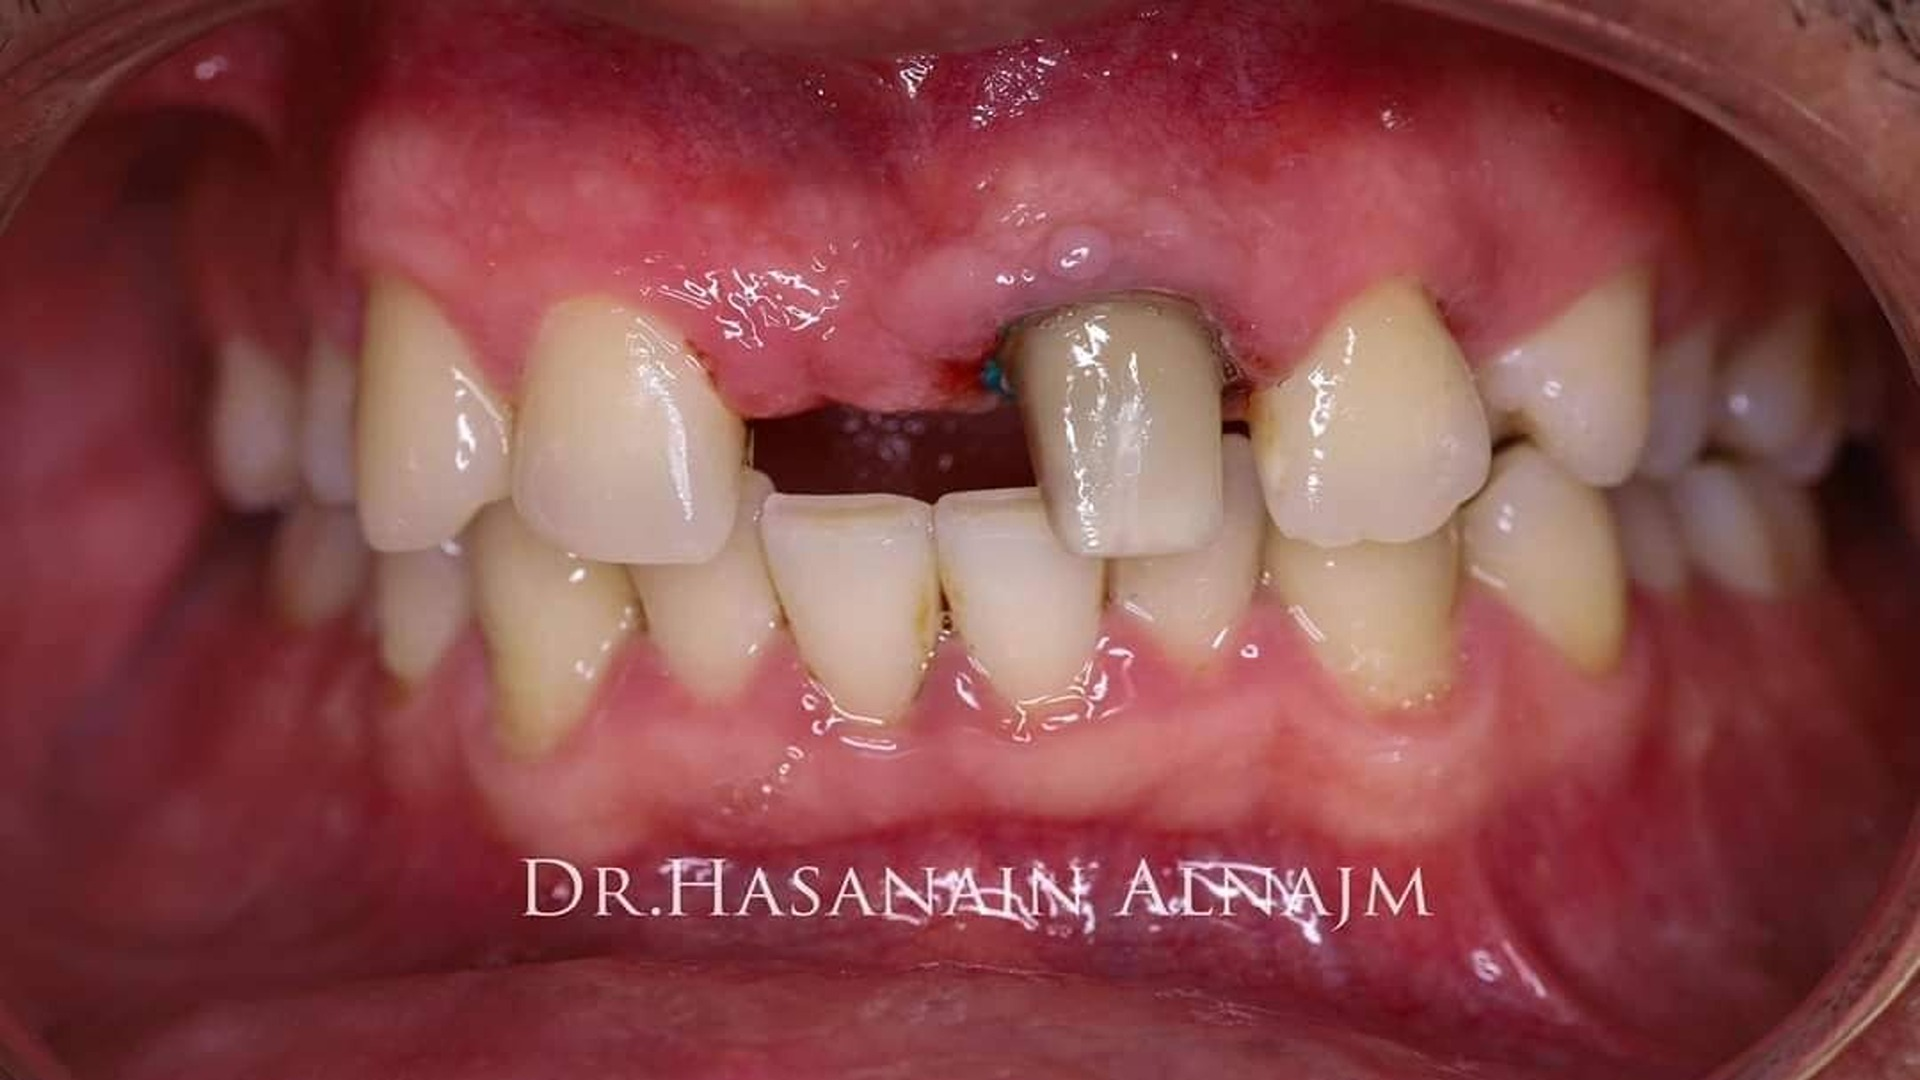tooth: (1247, 277, 1491, 549), (510, 294, 746, 564), (998, 293, 1225, 559), (463, 498, 646, 760), (356, 273, 512, 551), (760, 492, 940, 727), (1265, 512, 1464, 711), (1458, 436, 1626, 673), (1476, 268, 1654, 487), (934, 487, 1106, 704), (626, 469, 786, 703), (1702, 297, 1847, 487), (371, 539, 471, 692), (1639, 320, 1713, 476), (1606, 473, 1693, 589), (302, 332, 357, 508)
